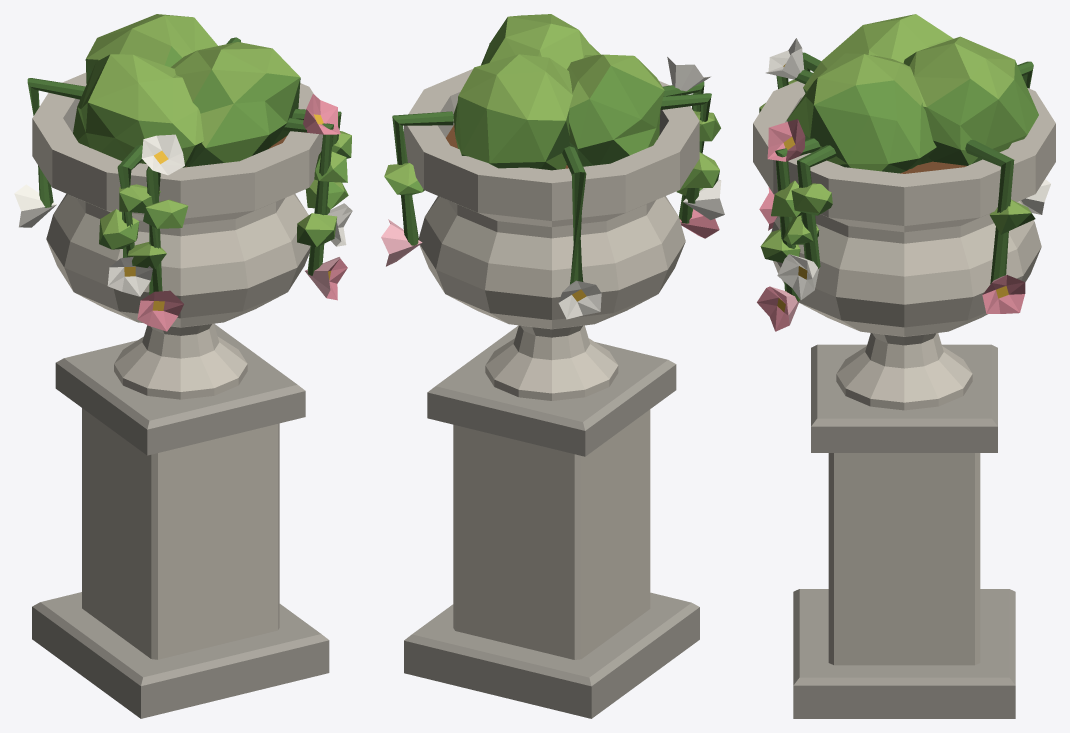
Rendered from FMS_Garden_Urn_Planted.fbx.
3 views of the same model, side by side, from view 1: azimuth 30°, elevation 25°; view 2: azimuth 150°, elevation 25°; view 3: azimuth 270°, elevation 25° (orthographic). The views are drawn at different scales.
Parts seen in each view (by area): view 1: FMS_Garden_Urn_Planted_Body, FMS_Garden_Urn_Planted_Plants; view 2: FMS_Garden_Urn_Planted_Body, FMS_Garden_Urn_Planted_Plants; view 3: FMS_Garden_Urn_Planted_Body, FMS_Garden_Urn_Planted_Plants.
Boxes of the visible parts, box(x1,y1,x2,y2) form: FMS_Garden_Urn_Planted_Body: box(32, 72, 329, 718); FMS_Garden_Urn_Planted_Plants: box(14, 14, 352, 331); FMS_Garden_Urn_Planted_Body: box(404, 69, 699, 718); FMS_Garden_Urn_Planted_Plants: box(381, 14, 724, 319); FMS_Garden_Urn_Planted_Body: box(753, 81, 1055, 718); FMS_Garden_Urn_Planted_Plants: box(757, 14, 1050, 331).
Size of the model in its own units: 0.6 by 1.38 by 0.6.
